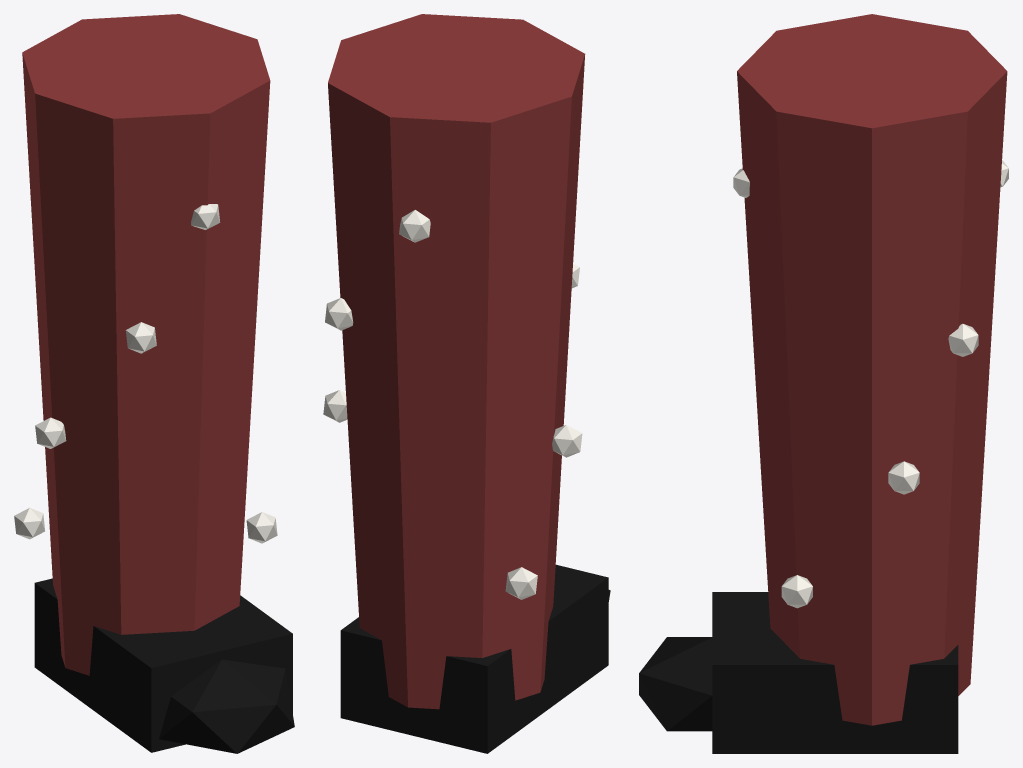
Rendered from insan_k1_bacak.glb.
The picture shows the model from 3 angles, left to right: view 1: azimuth 30°, elevation 25°; view 2: azimuth 150°, elevation 25°; view 3: azimuth 270°, elevation 25°; orthographic projection. The views are drawn at different scales.
Visible parts, largest first — view 1: Cone; view 2: Cone; view 3: Cone.
Boxes of the visible parts, x1,y1,x2,y2 form: Cone: [14, 14, 294, 753]; Cone: [323, 14, 610, 753]; Cone: [639, 14, 1008, 753].
Size of the model in its own units: 0.0446 by 0.1184 by 0.0602.
